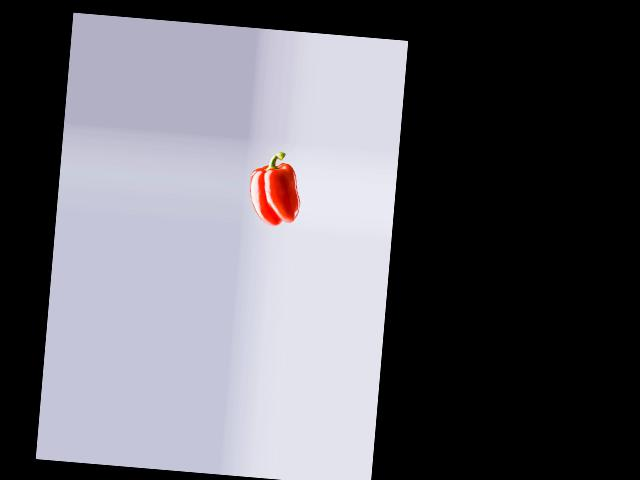bell_pepper: (244, 148, 305, 225)
